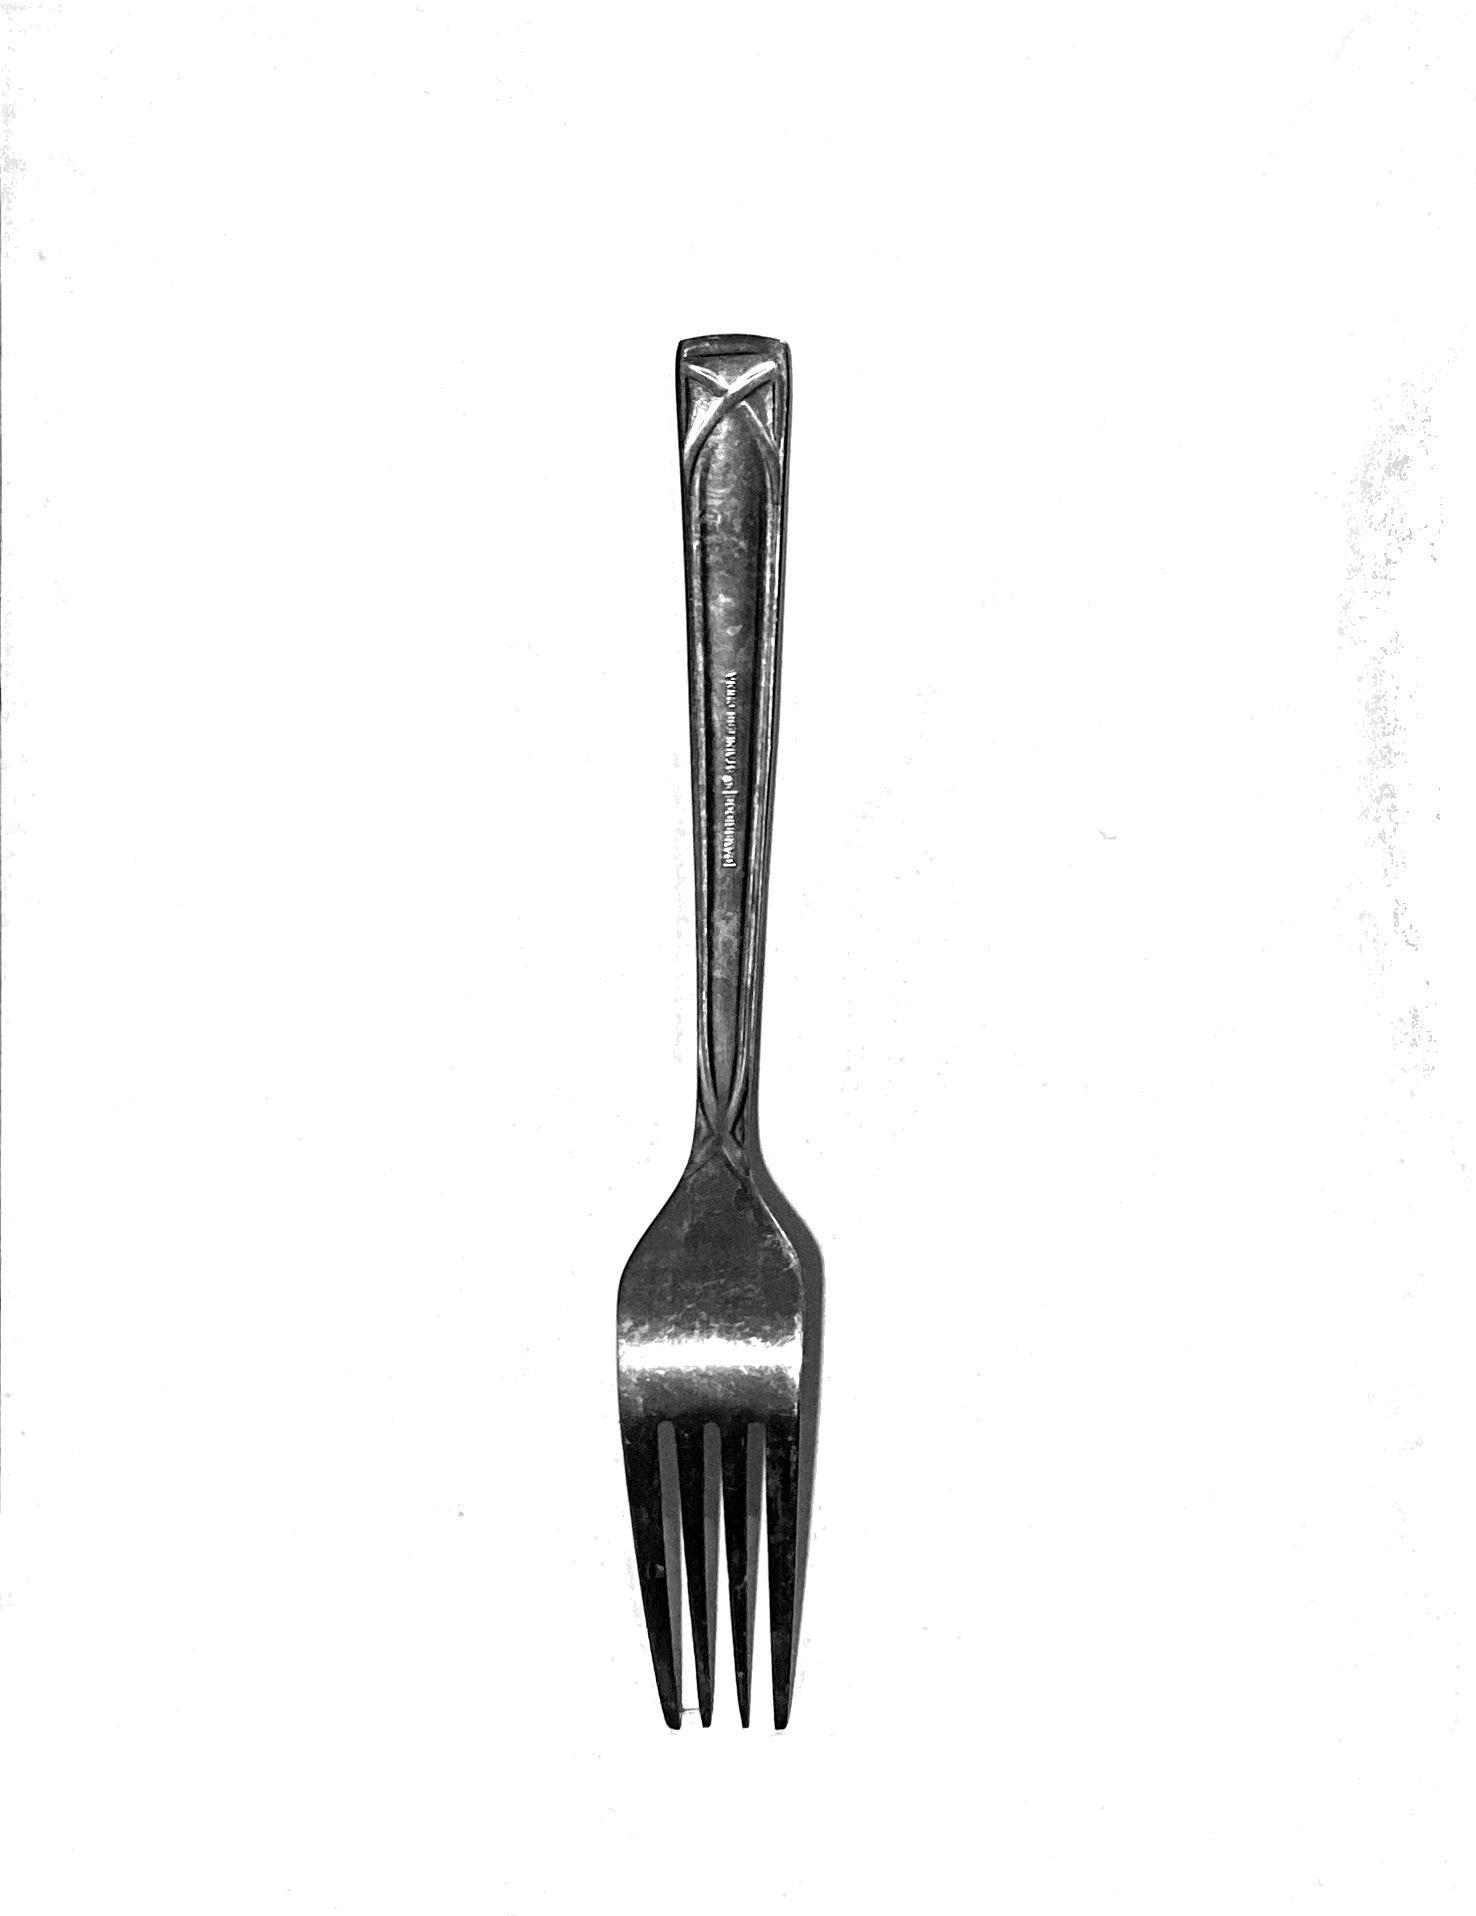Fork: (553, 281, 985, 1815)
